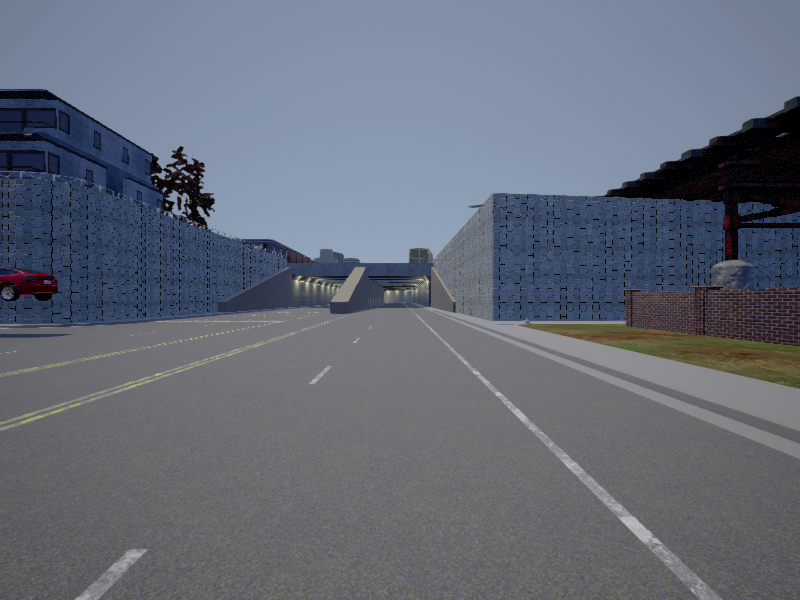Attacker: (1, 266, 58, 301)
